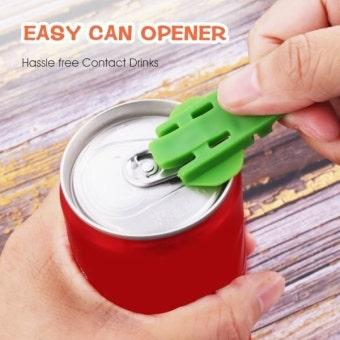paper: (59, 95, 257, 319)
